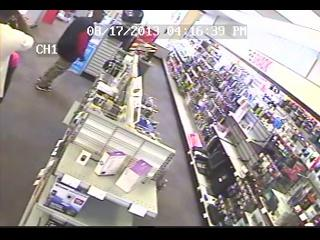Normal: (34, 11, 104, 93), (1, 22, 34, 104)
